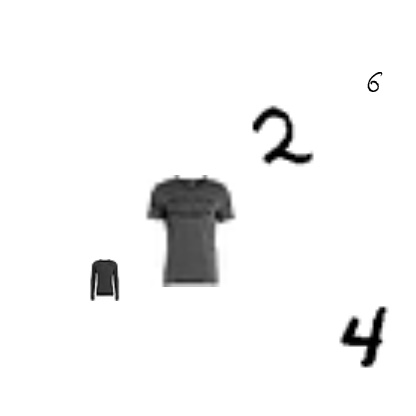2: (238, 94, 322, 178)
4: (322, 295, 406, 379)
6: (359, 68, 387, 96)
Pullover: (83, 259, 125, 301)
T-shirt/top: (135, 175, 247, 287)
